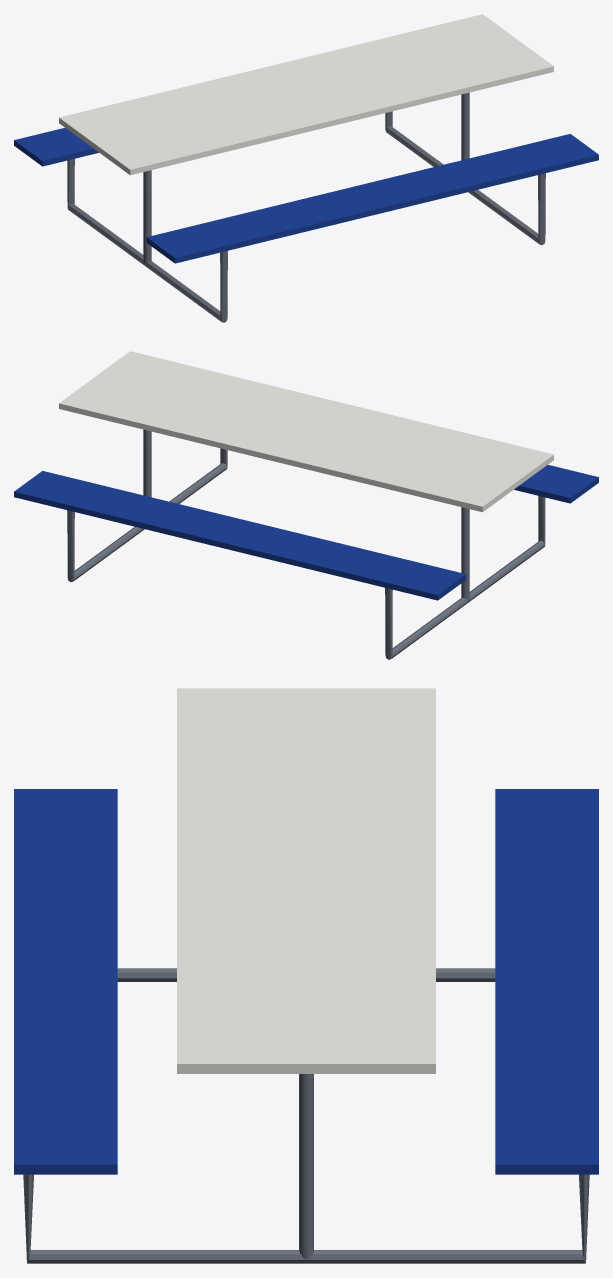
File: school.canteen.lunch_bench.glb
3 renders of one model, top to bottom at view 1: azimuth 30°, elevation 25°; view 2: azimuth 150°, elevation 25°; view 3: azimuth 270°, elevation 25°, orthographic. The views are drawn at different scales.
Parts seen in each view (by area): view 1: main__laminate_white, main__plastic_blue, main__steel_painted; view 2: main__laminate_white, main__plastic_blue, main__steel_painted; view 3: main__laminate_white, main__plastic_blue, main__steel_painted.
Part boxes in pixels (x1,y1,x2,y2): main__laminate_white: (59, 14, 553, 175); main__plastic_blue: (14, 128, 598, 263); main__steel_painted: (67, 92, 545, 322); main__laminate_white: (59, 351, 553, 512); main__plastic_blue: (14, 465, 598, 600); main__steel_painted: (67, 429, 545, 659); main__laminate_white: (177, 688, 435, 1073); main__plastic_blue: (14, 789, 598, 1174); main__steel_painted: (23, 968, 589, 1263).
Bounding box in the file's own units: 2.4 × 0.7344 × 1.58.
